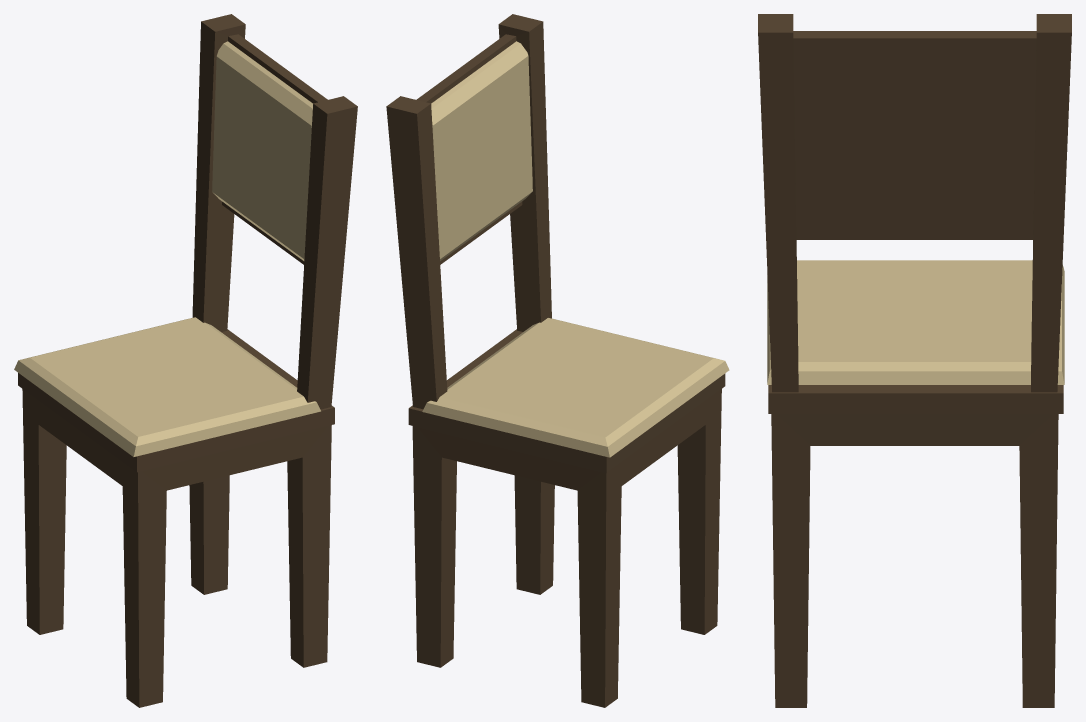
The model's file is Chair1-3.fbx.
3 renders of one model, left to right at view 1: azimuth 30°, elevation 25°; view 2: azimuth 150°, elevation 25°; view 3: azimuth 270°, elevation 25°, orthographic. The views are drawn at different scales.
Visible parts, largest first — view 1: Chair.001_LOD0; view 2: Chair.001_LOD0; view 3: Chair.001_LOD0.
Boxes of the visible parts, <box> form: Chair.001_LOD0: <box>14,14,357,707</box>; Chair.001_LOD0: <box>386,14,729,707</box>; Chair.001_LOD0: <box>758,14,1071,707</box>.
Size of what is drawn, in the model's own units: 93 by 224 by 92.23.
1 material, 1 textured.
